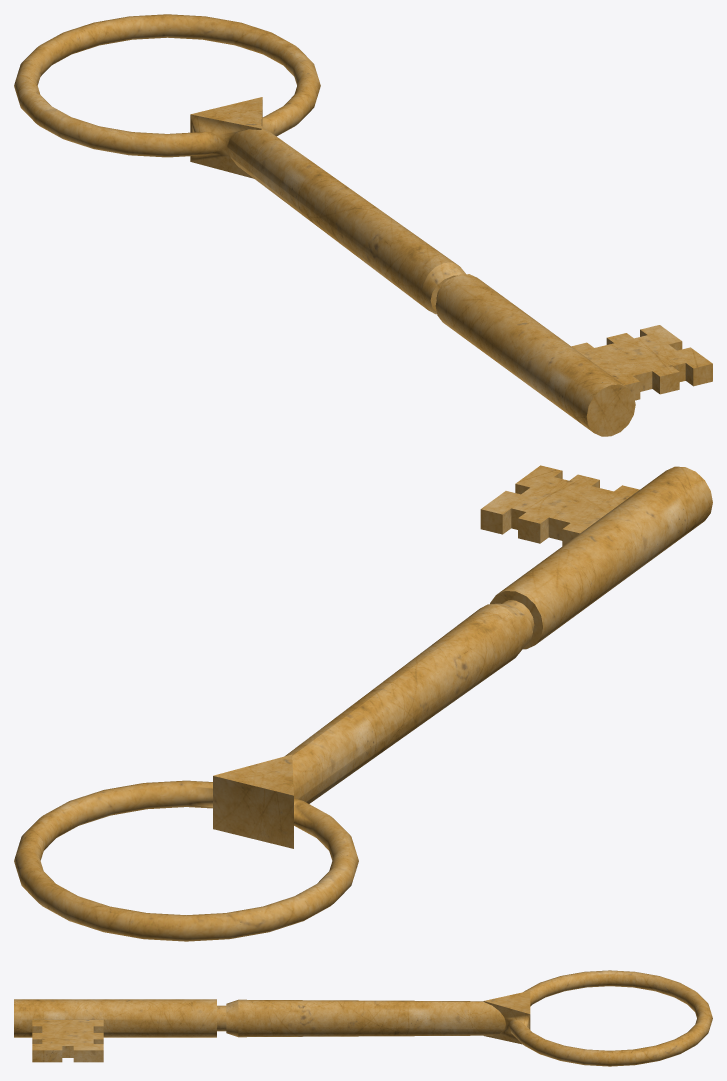
Rendered from Scp005.glb.
The picture shows the model from 3 angles, top to bottom: view 1: azimuth 30°, elevation 25°; view 2: azimuth 150°, elevation 25°; view 3: azimuth 270°, elevation 25°; orthographic projection. The views are drawn at different scales.
Visible parts, largest first — view 1: Cylinder; view 2: Cylinder; view 3: Cylinder.
Part boxes in pixels (bbox=[...]): Cylinder: bbox=[14, 14, 712, 436]; Cylinder: bbox=[14, 465, 712, 941]; Cylinder: bbox=[14, 970, 712, 1066].
Size of the model in its own units: 1.3 by 0.2436 by 4.41.
1 material, 1 textured.
